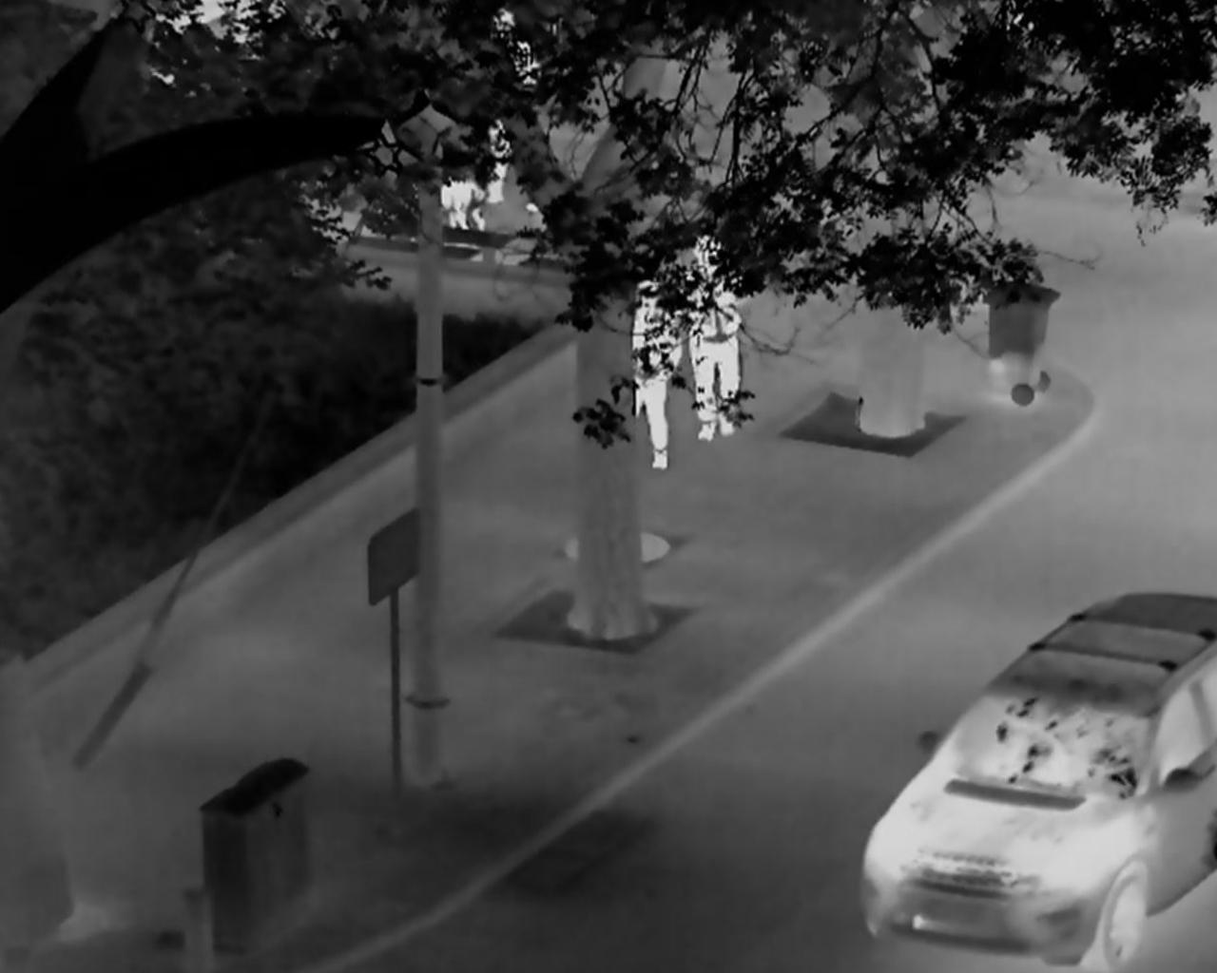person: (480, 7, 540, 214), (687, 235, 746, 442), (633, 277, 682, 469)
